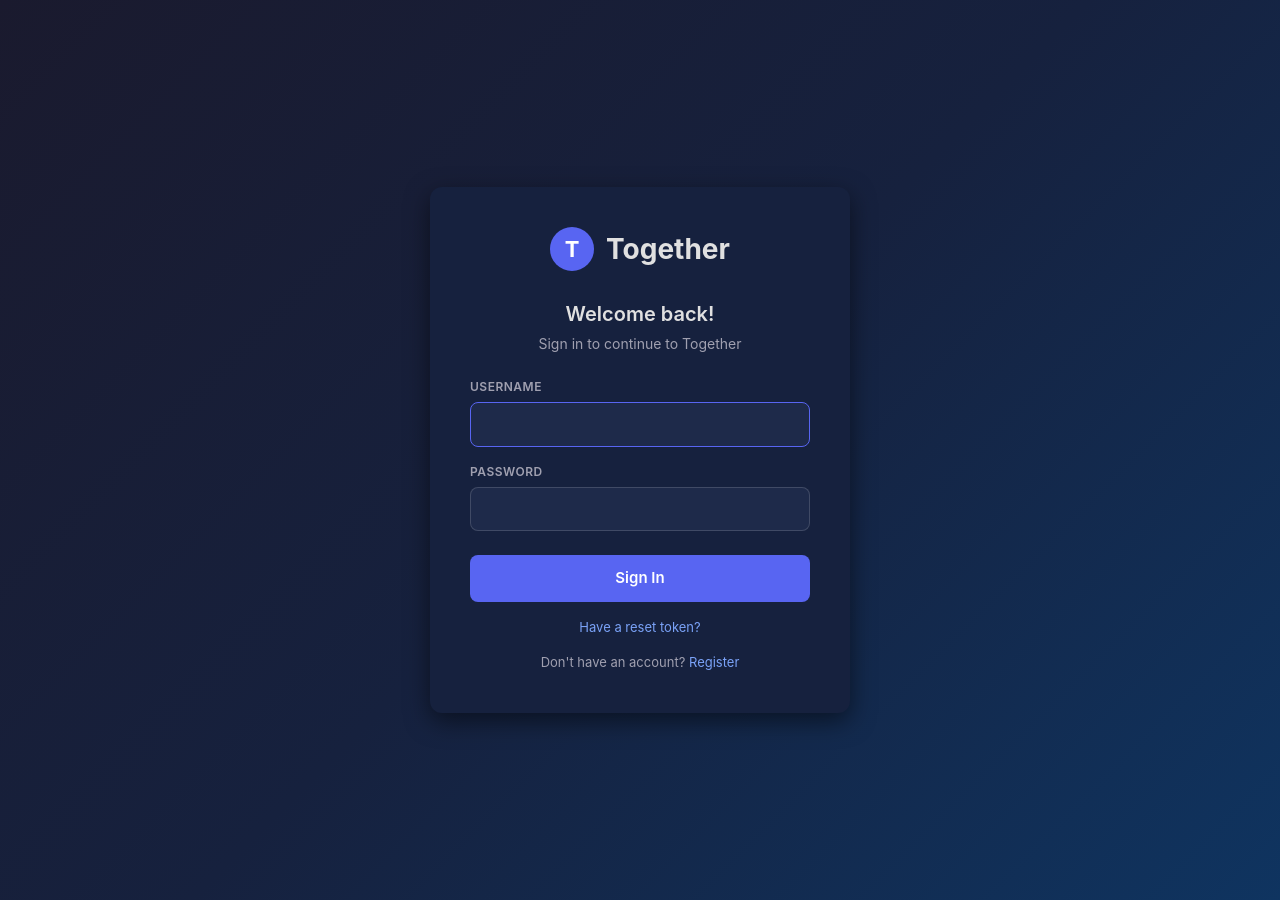
AuthForm › switches back to login from register
What coordinates should you click on to do the following:
click the button "Register"
I would click on:
 (714, 663)
Its box is [689,653,739,673].
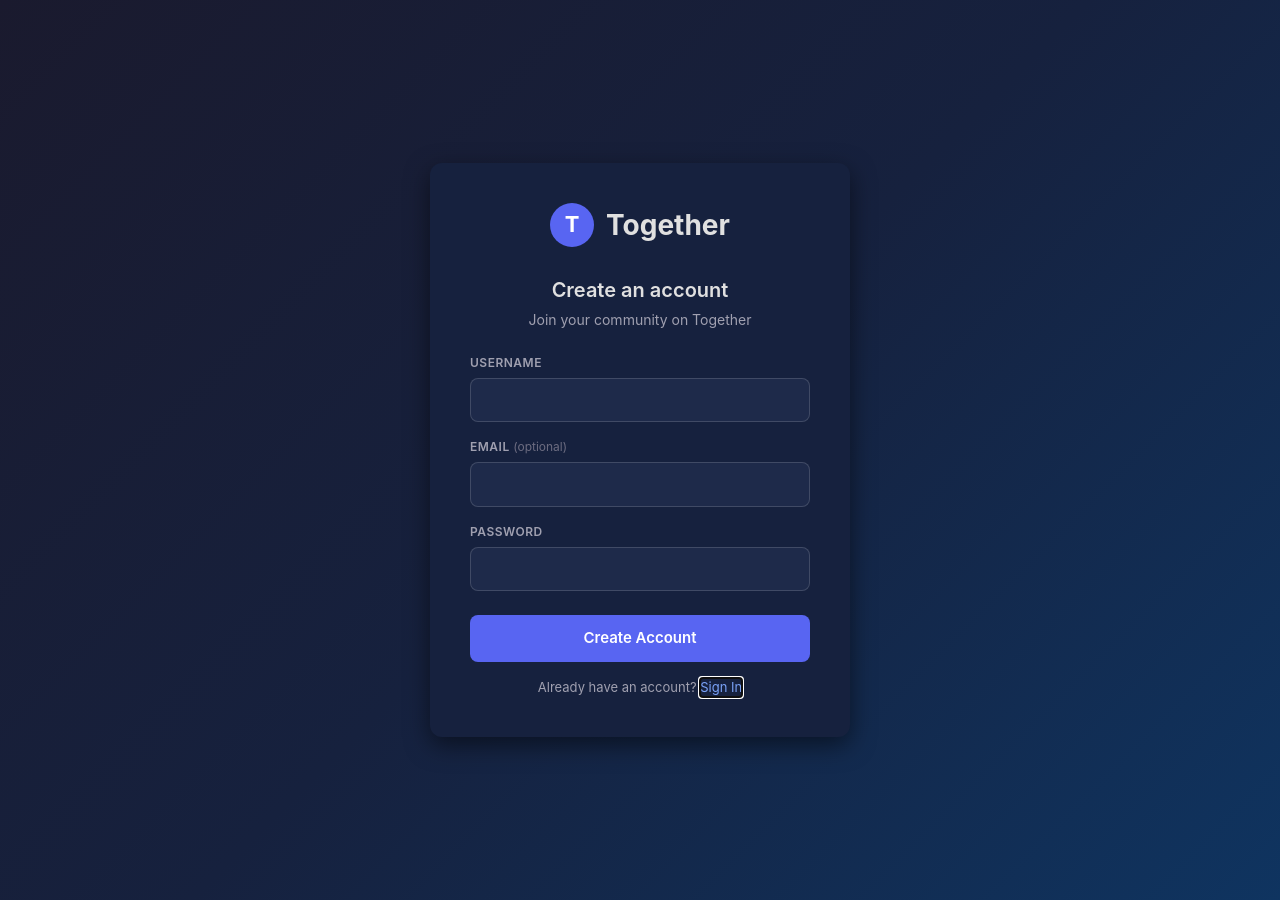
What coordinates should you click on to do the following:
click the button "Sign In"
I would click on:
 (721, 688)
Its box is [700,678,742,697].
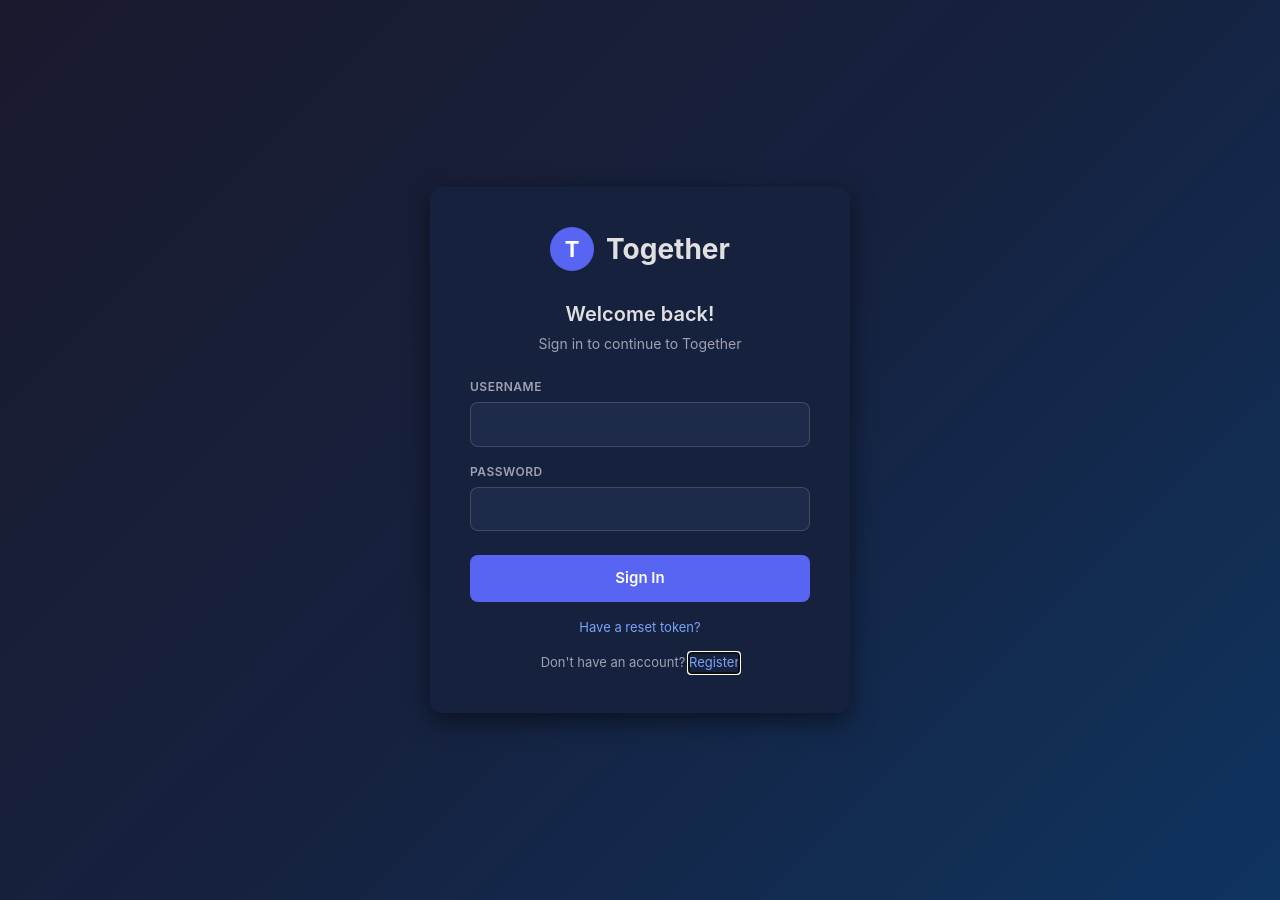
Check: the heading "Welcome back!" is shown, box [566,302,714,326]
